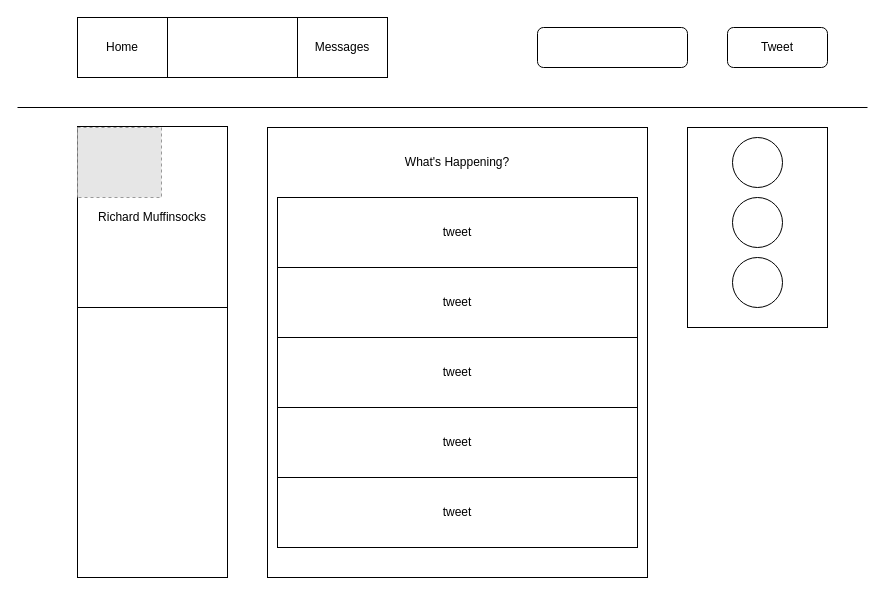
This 886x595 diagram has some shape labels left out. Grey dashed boxes stand in for pictures. The centre of each missing label's shape, as x and y in pixels:
"Lorem ipsum" goes at [152,442].
"Notifications" goes at [232,47].
"Search" goes at [612,47].
